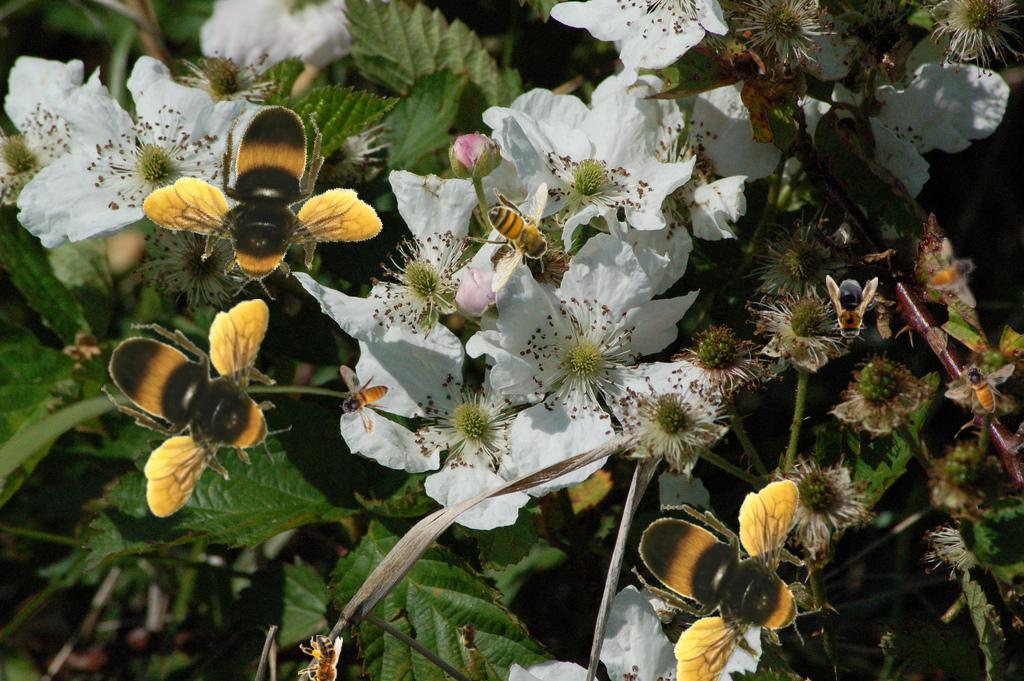Bee: (120, 75, 394, 334), (101, 299, 292, 519), (631, 480, 822, 681), (468, 182, 562, 293), (944, 363, 1015, 413), (927, 237, 977, 308), (339, 365, 389, 436), (826, 275, 878, 343), (298, 635, 343, 681), (459, 616, 481, 656)
